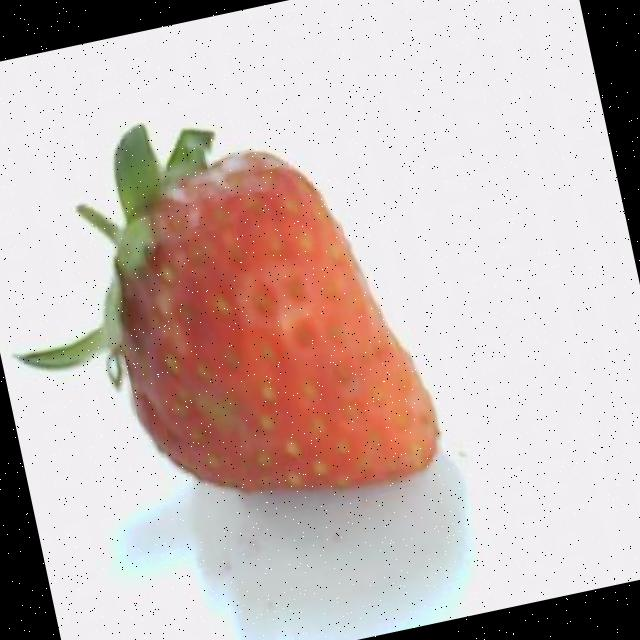strawberry: (19, 126, 438, 491)
